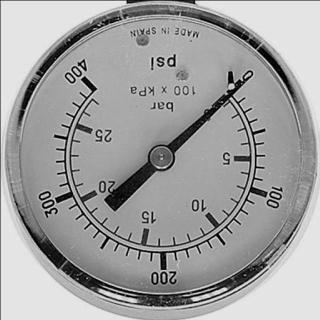gauge: (1, 1, 320, 320), (146, 143, 175, 171), (71, 65, 100, 93), (232, 62, 260, 90), (229, 74, 251, 96)
